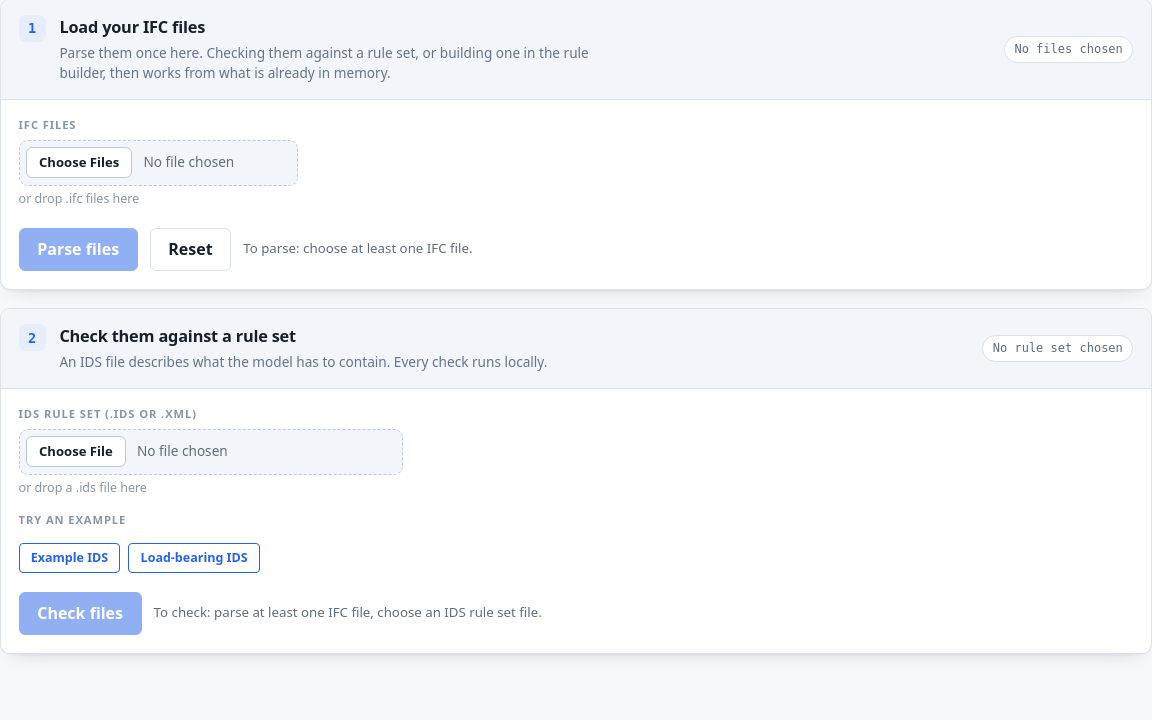
Test: IfcCheckerPage › loads a bundled example as the active IDS file the same way a real upload would
(page scrolled)
Click the button "Example IDS".
click(70, 558)  # box top-left (19, 543), bottom-right (120, 573)
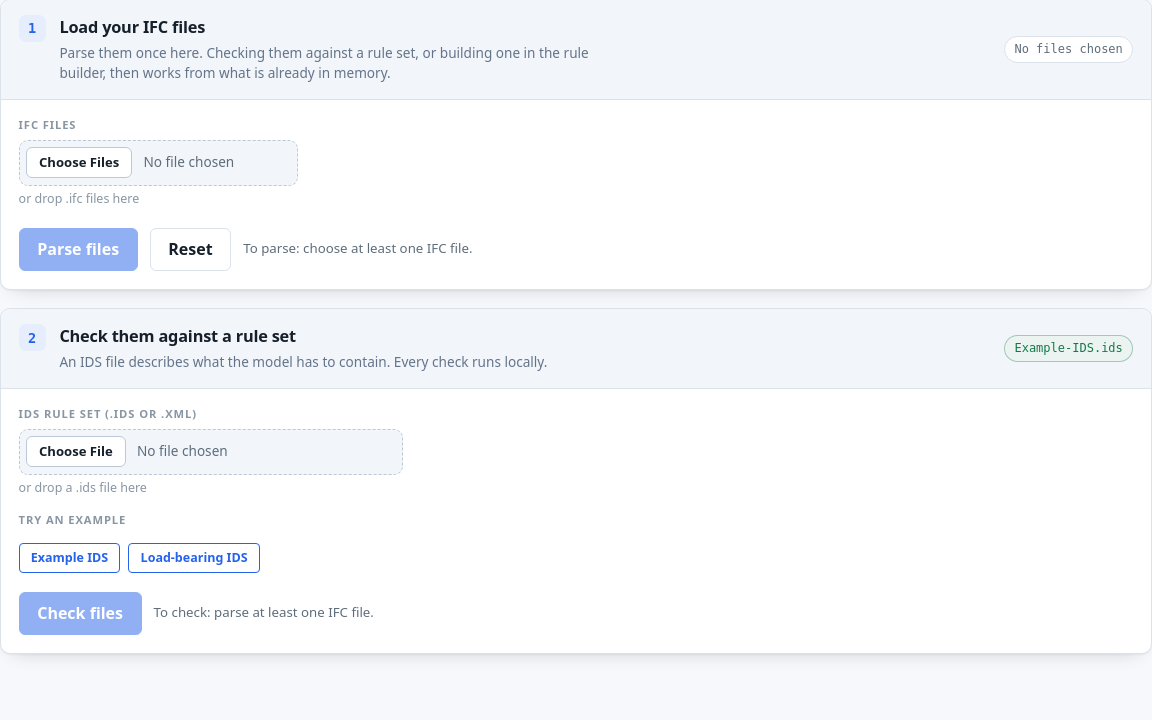
Check: the text "Example-IDS.ids" is shown, box top-left (1004, 335), bottom-right (1133, 362)
